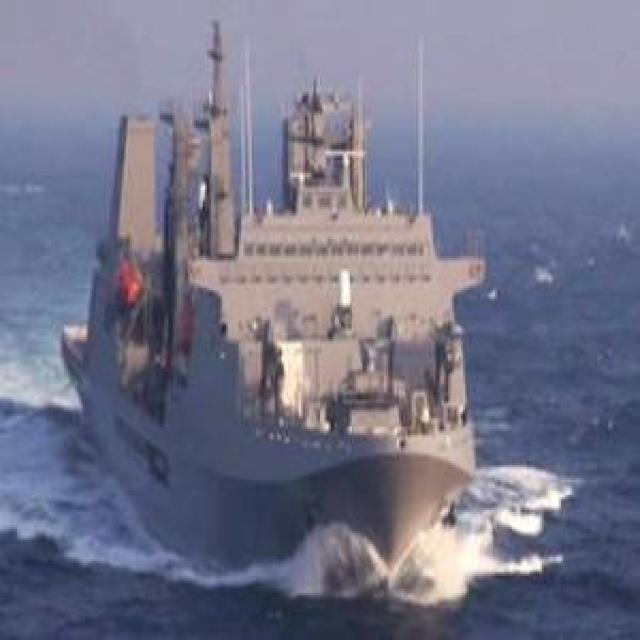navalvessels: (61, 27, 496, 588)
